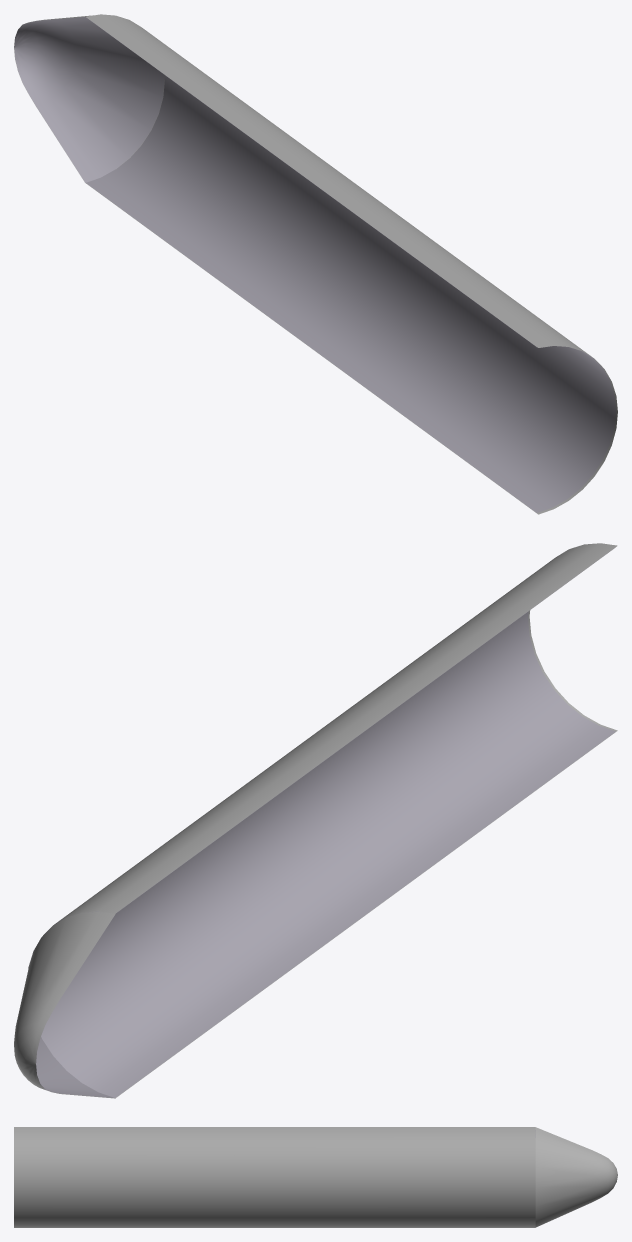
The model's file is fairing102b.obj.
3 renders of one model, top to bottom at view 1: azimuth 30°, elevation 25°; view 2: azimuth 150°, elevation 25°; view 3: azimuth 270°, elevation 25°, orthographic. The views are drawn at different scales.
Parts seen in each view (by area): view 1: group0, group1; view 2: group0, group1; view 3: group1.
Part boxes in pixels (x1,y1,x2,y2): group0: [14, 17, 615, 512]; group1: [14, 14, 617, 514]; group0: [29, 547, 615, 1098]; group1: [14, 543, 617, 1098]; group1: [14, 1127, 617, 1227].
Bounding box in the file's own units: 0.7837 × 1.56 × 8.89.
2 materials, 1 textured.
